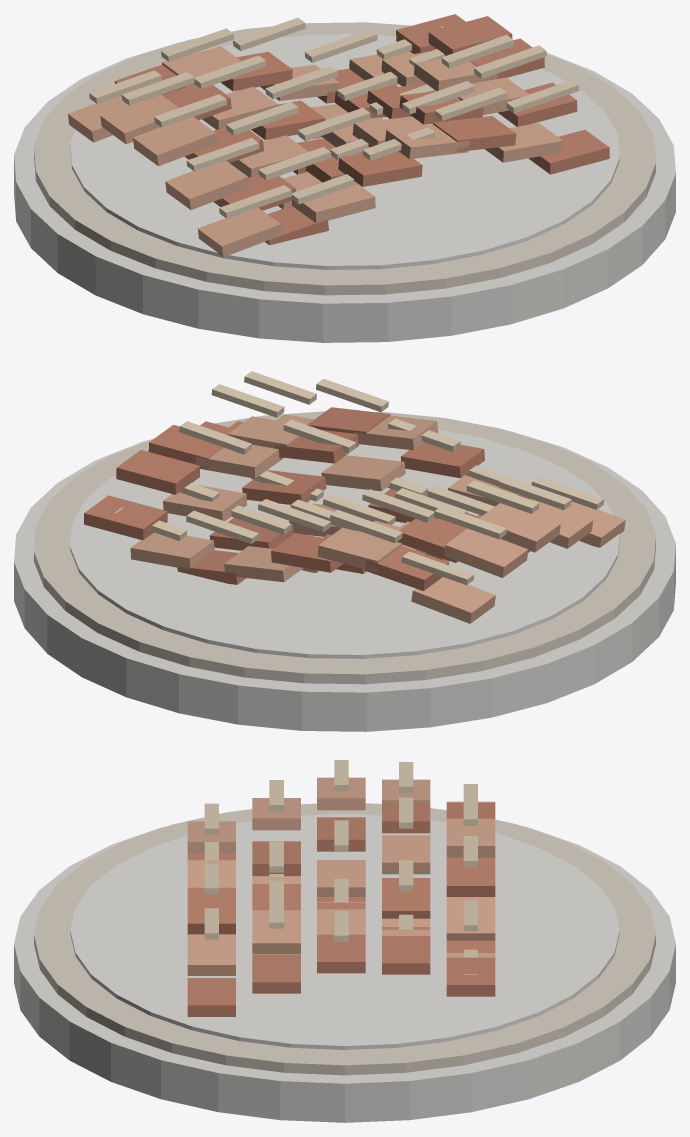
File: thit_xong_khoi.glb
3 views of the same model, one above another, from view 1: azimuth 30°, elevation 25°; view 2: azimuth 150°, elevation 25°; view 3: azimuth 270°, elevation 25° (orthographic).
Parts seen in each view (by area): view 1: obj_0002, obj_0000, obj_0001, obj_0042, obj_0029, obj_0055, obj_0058, obj_0016, obj_0060, obj_0062, obj_0057, obj_0023 (+49 smaller); view 2: obj_0002, obj_0000, obj_0001, obj_0016, obj_0023, obj_0010, obj_0003, obj_0046, obj_0005, obj_0029, obj_0009, obj_0058 (+36 smaller); view 3: obj_0002, obj_0000, obj_0001, obj_0010, obj_0061, obj_0049, obj_0048, obj_0023, obj_0062, obj_0060, obj_0006, obj_0036 (+17 smaller).
Part boxes in pixels (bbox=[...]): obj_0002: bbox=[70, 34, 619, 269]; obj_0000: bbox=[14, 42, 675, 342]; obj_0001: bbox=[34, 22, 655, 295]; obj_0042: bbox=[165, 160, 249, 209]; obj_0029: bbox=[133, 117, 217, 166]; obj_0055: bbox=[197, 208, 282, 257]; obj_0058: bbox=[338, 151, 422, 186]; obj_0016: bbox=[100, 95, 178, 144]; obj_0060: bbox=[433, 116, 516, 151]; obj_0062: bbox=[528, 129, 609, 174]; obj_0057: bbox=[291, 184, 375, 223]; obj_0023: bbox=[428, 16, 512, 55]; obj_0002: bbox=[70, 429, 619, 658]; obj_0000: bbox=[14, 431, 675, 731]; obj_0001: bbox=[34, 411, 655, 684]; obj_0016: bbox=[444, 528, 528, 577]; obj_0023: bbox=[116, 450, 200, 494]; obj_0010: bbox=[83, 495, 167, 540]; obj_0003: bbox=[411, 577, 495, 623]; obj_0046: bbox=[321, 455, 405, 491]; obj_0005: bbox=[318, 527, 401, 572]; obj_0029: bbox=[479, 503, 560, 552]; obj_0009: bbox=[130, 532, 214, 569]; obj_0058: bbox=[400, 442, 484, 478]; obj_0002: bbox=[70, 814, 619, 1049]; obj_0000: bbox=[14, 826, 675, 1122]; obj_0001: bbox=[34, 803, 655, 1075]; obj_0010: bbox=[446, 957, 495, 996]; obj_0061: bbox=[187, 934, 235, 975]; obj_0049: bbox=[252, 954, 300, 993]; obj_0048: bbox=[252, 910, 300, 954]; obj_0023: bbox=[382, 936, 430, 974]; obj_0062: bbox=[187, 978, 235, 1016]; obj_0060: bbox=[187, 887, 235, 934]; obj_0006: bbox=[446, 857, 495, 896]; obj_0036: bbox=[317, 934, 365, 973].
Bounding box in the file's own units: 1.84 × 0.4293 × 1.84.
